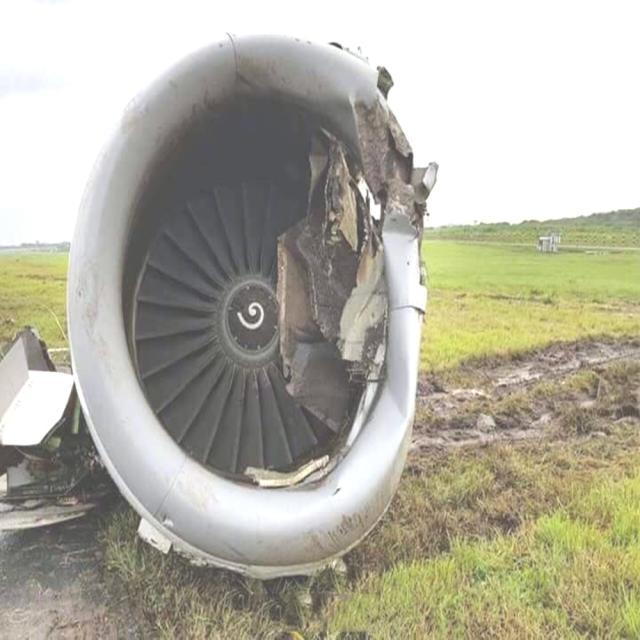dent: (382, 350, 408, 434), (383, 216, 416, 258)
